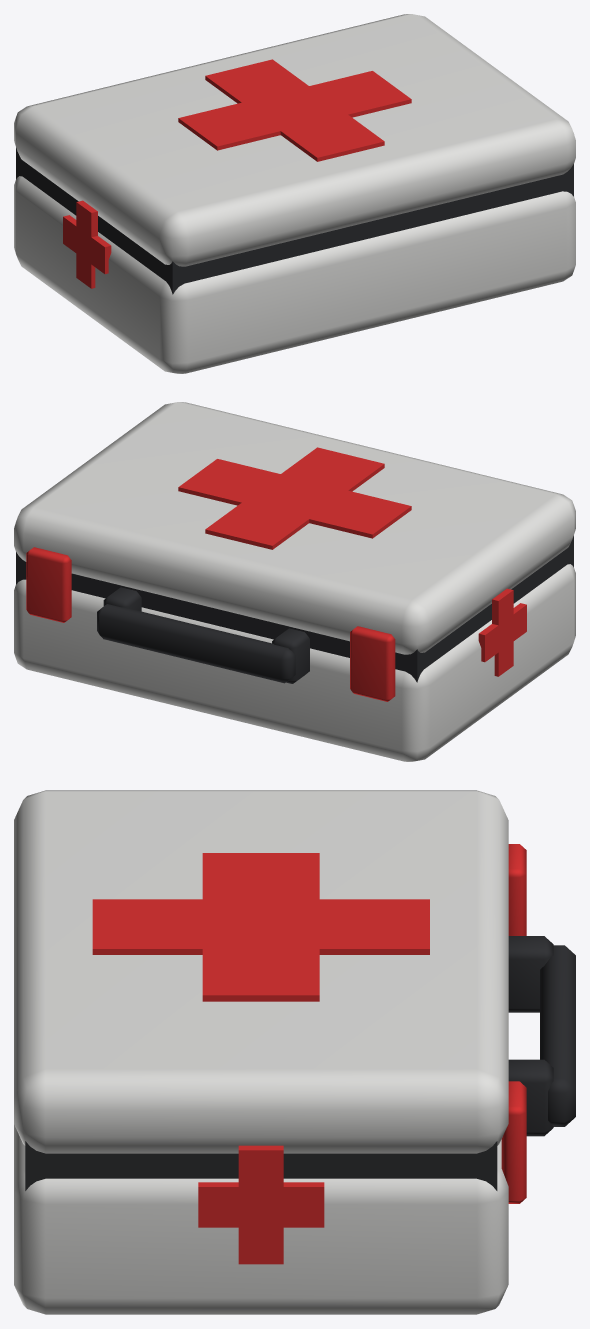
File: medkit.glb
3 views of the same model, one above another, from view 1: azimuth 30°, elevation 25°; view 2: azimuth 150°, elevation 25°; view 3: azimuth 270°, elevation 25° (orthographic). The views are drawn at different scales.
Parts seen in each view (by area): view 1: Medkit; view 2: Medkit; view 3: Medkit.
Boxes of the visible parts, x1=… form: Medkit: x1=14, y1=14, x2=575, y2=373; Medkit: x1=14, y1=402, x2=575, y2=761; Medkit: x1=14, y1=790, x2=575, y2=1314.
Bounding box in the file's own units: 0.326 × 0.123 × 0.25.
